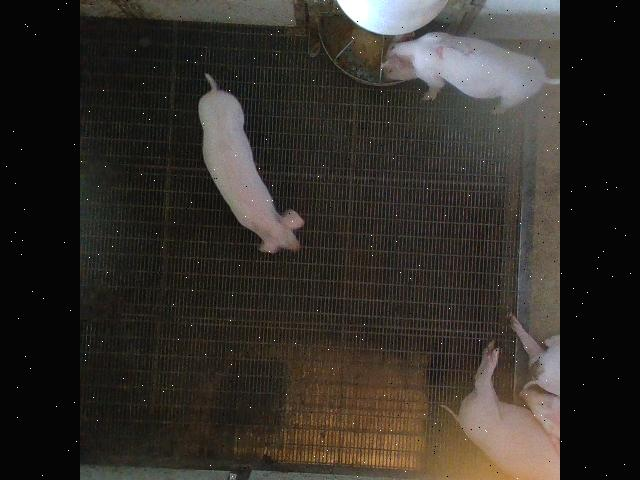pig-5: (382, 31, 559, 112)
